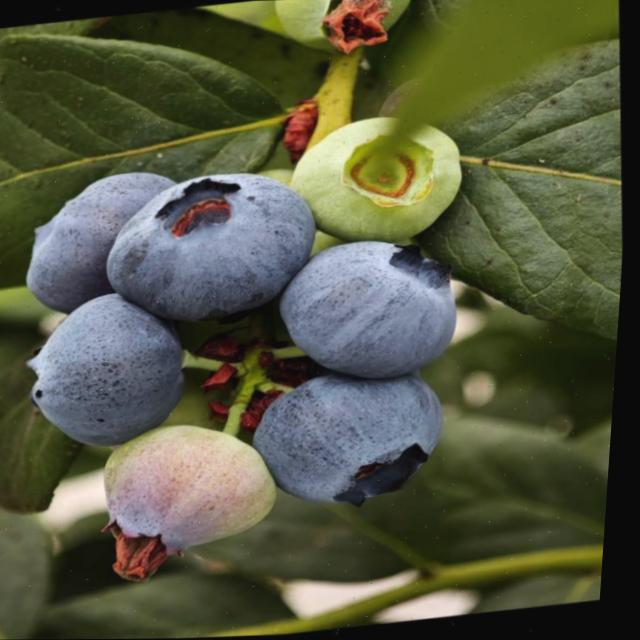RipeBlueBerry: (103, 166, 329, 325), (277, 228, 481, 387), (262, 363, 463, 515), (23, 279, 195, 453)
Semi-RipeBlueBerry: (101, 417, 296, 560)
